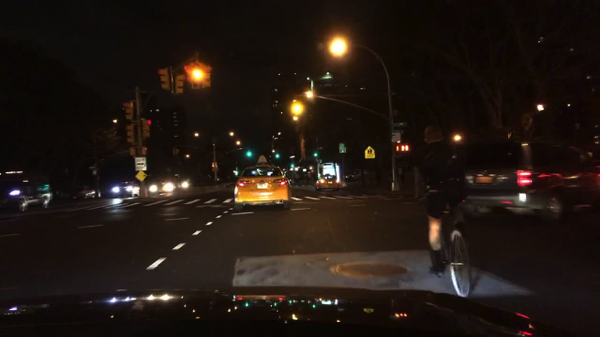bike: (412, 176, 473, 309)
car: (461, 141, 598, 226), (233, 155, 291, 214), (0, 176, 53, 214), (111, 181, 141, 197), (315, 175, 342, 192), (149, 177, 175, 194), (72, 185, 99, 200), (52, 185, 73, 202), (173, 177, 192, 190), (345, 170, 367, 181), (227, 178, 239, 188)
rider: (411, 122, 466, 279)
traffic light: (158, 66, 169, 89), (201, 66, 212, 88), (191, 63, 200, 88), (175, 75, 185, 96), (123, 102, 133, 120), (142, 119, 151, 138), (125, 123, 134, 141), (394, 144, 409, 152), (294, 102, 301, 117), (140, 147, 148, 155), (130, 147, 136, 157), (313, 149, 317, 158), (247, 149, 250, 157), (276, 152, 279, 159)
traffic sign: (134, 156, 147, 170), (363, 146, 375, 158), (135, 171, 148, 182), (391, 128, 400, 142), (390, 122, 409, 127), (339, 143, 346, 153), (211, 162, 218, 167), (213, 168, 218, 172), (289, 155, 295, 158)
